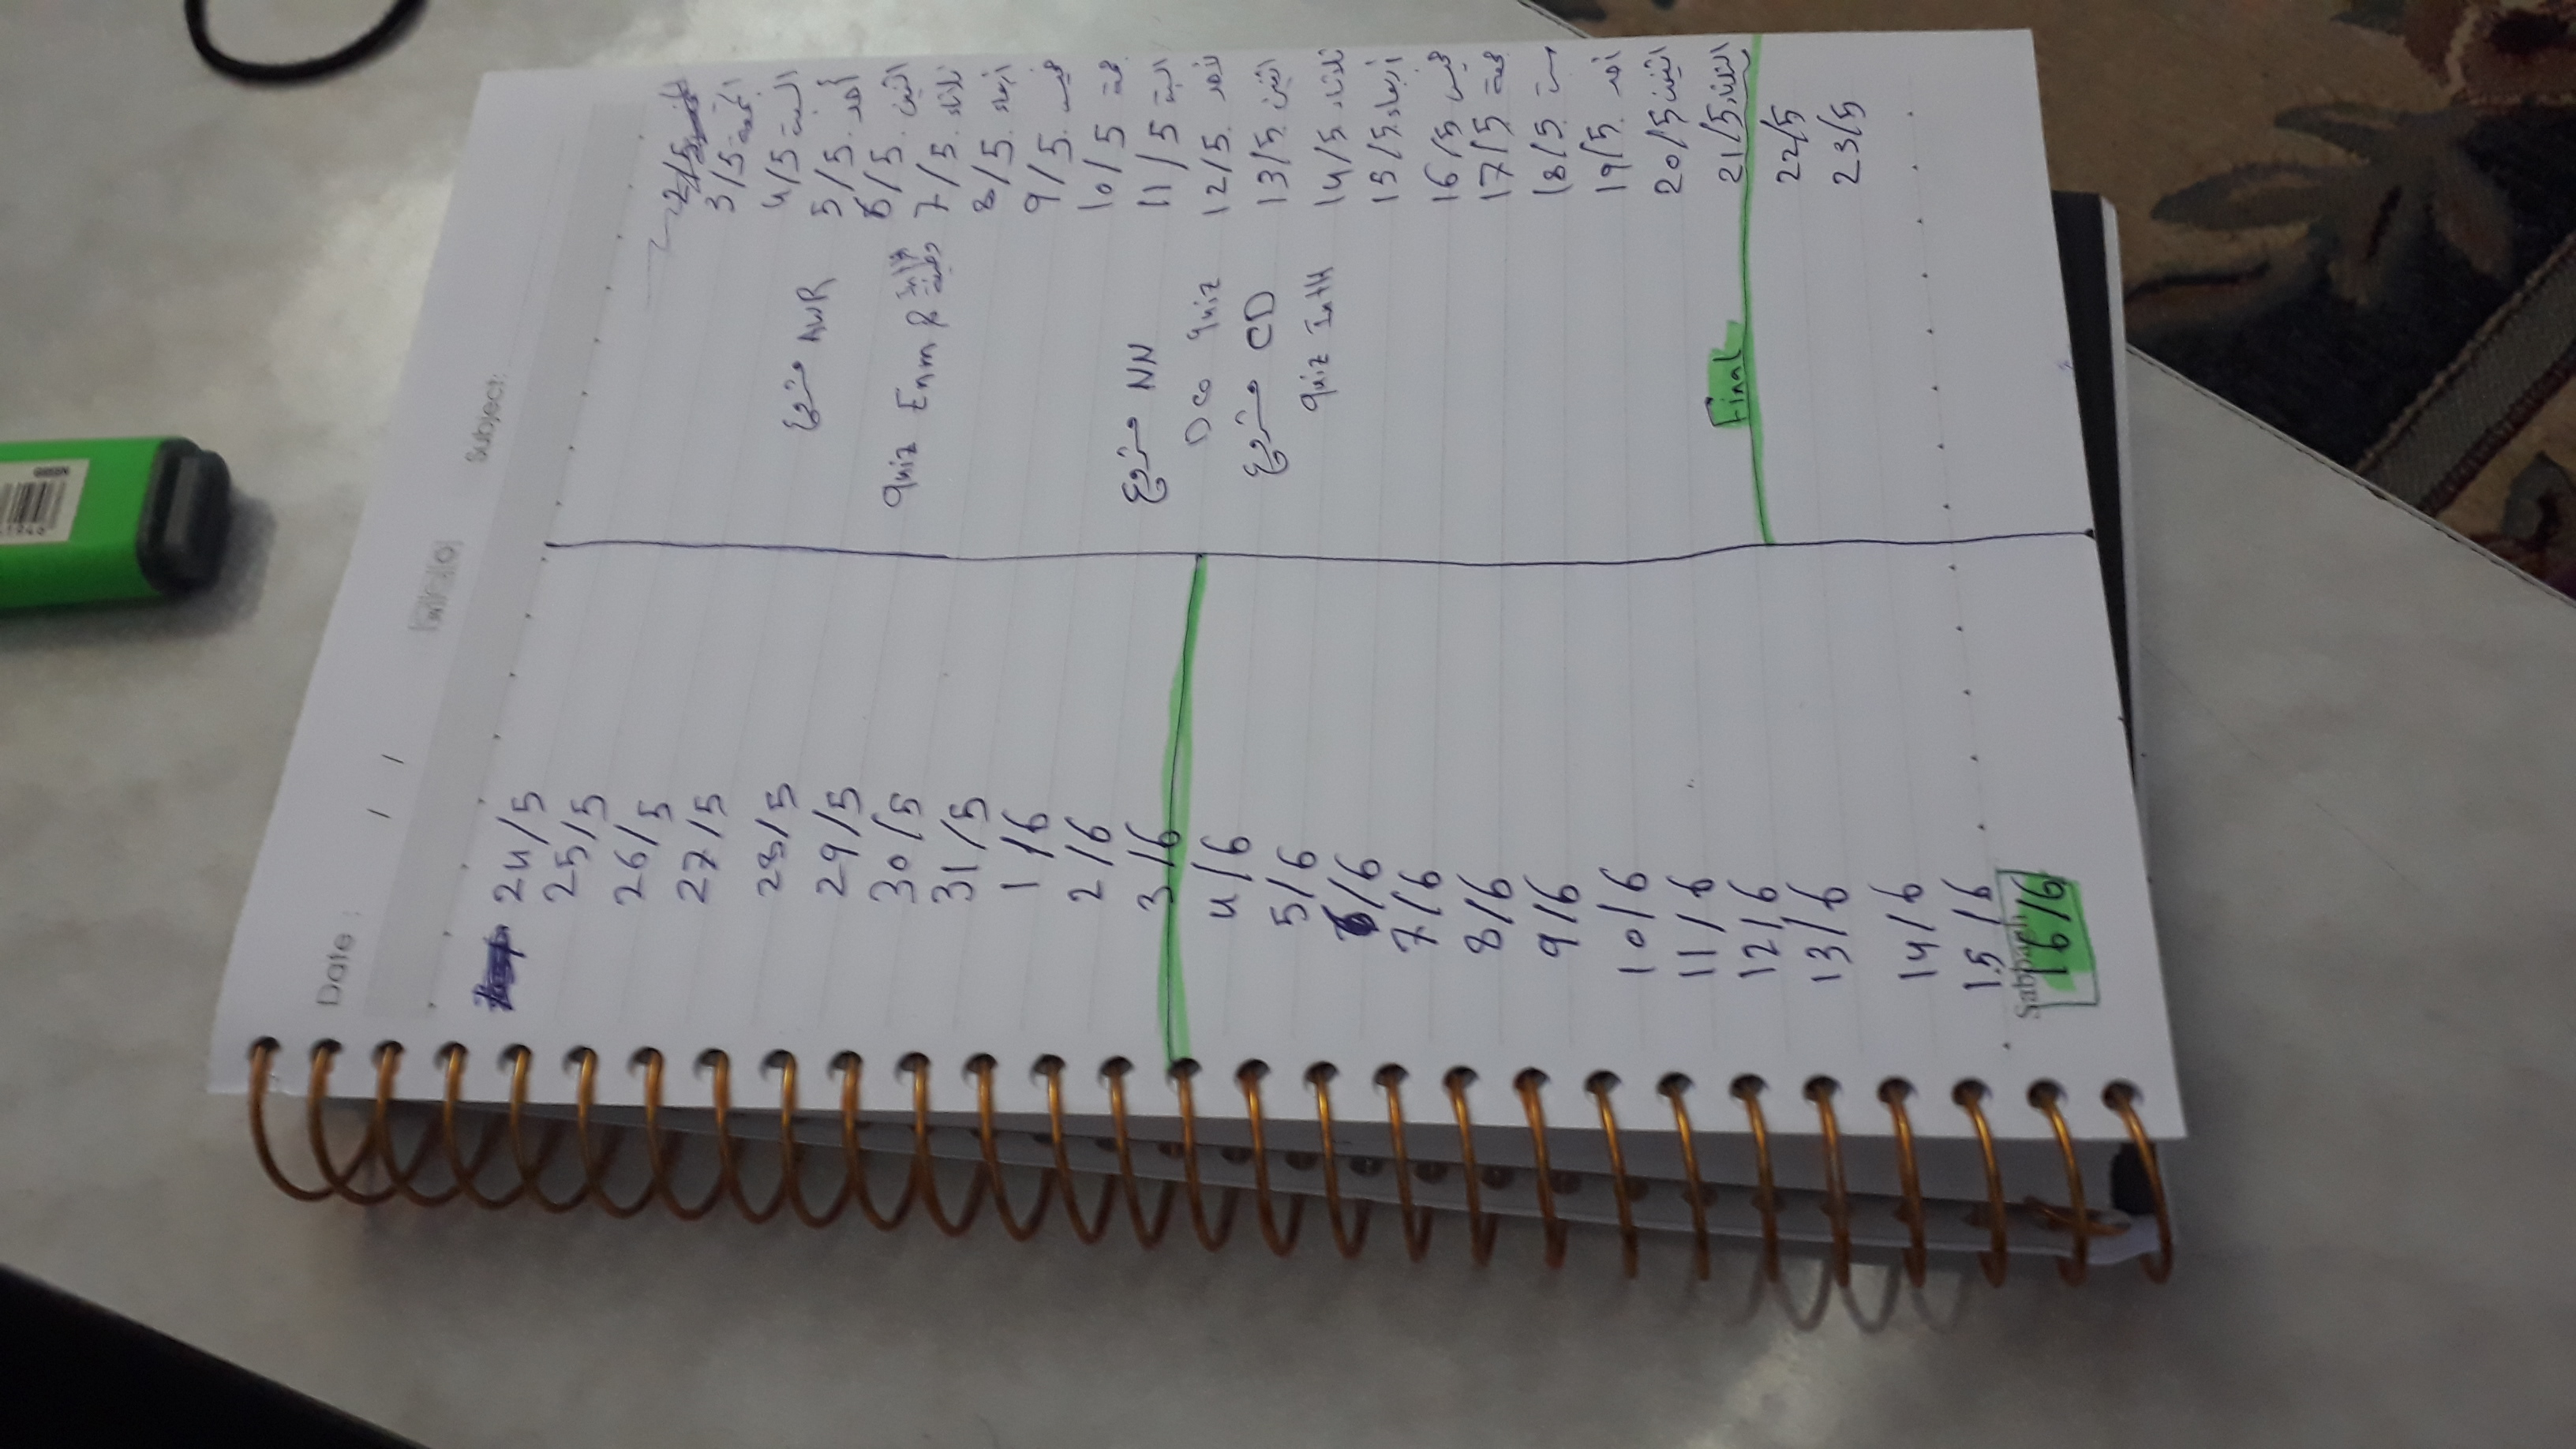dftar: (211, 0, 2150, 1309)
